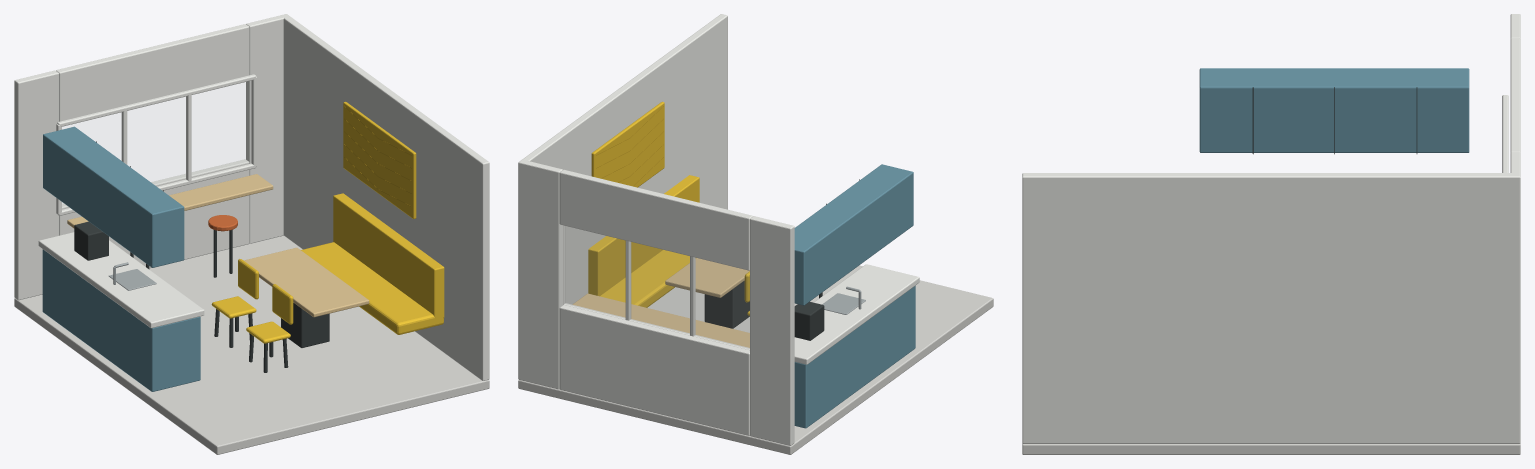
Rendered from con-tea-point-interior-4841ca55b96a.glb.
3 renders of one model, left to right at view 1: azimuth 30°, elevation 25°; view 2: azimuth 150°, elevation 25°; view 3: azimuth 270°, elevation 25°, orthographic. The views are drawn at different scales.
Visible parts, largest first — view 1: con-tea-point; view 2: con-tea-point; view 3: con-tea-point.
Boxes of the visible parts, left/top/right/bottom form: con-tea-point: left=14, top=14, right=489, bottom=454; con-tea-point: left=518, top=14, right=993, bottom=454; con-tea-point: left=1022, top=14, right=1520, bottom=454.
Bounding box in the file's own units: 3.8 × 3.02 × 4.9.
